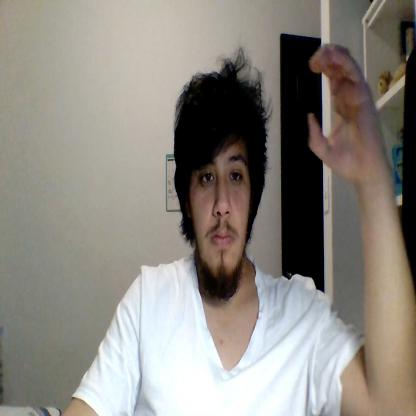C: (309, 42, 384, 174)
